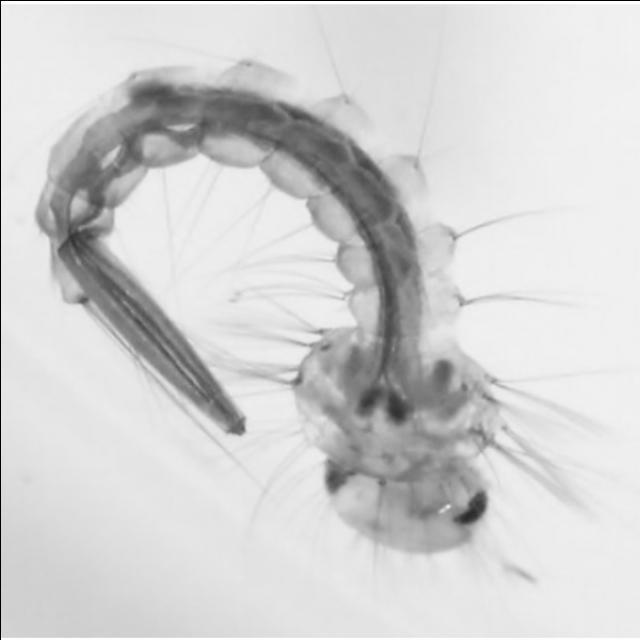larvas: (43, 64, 490, 554)
